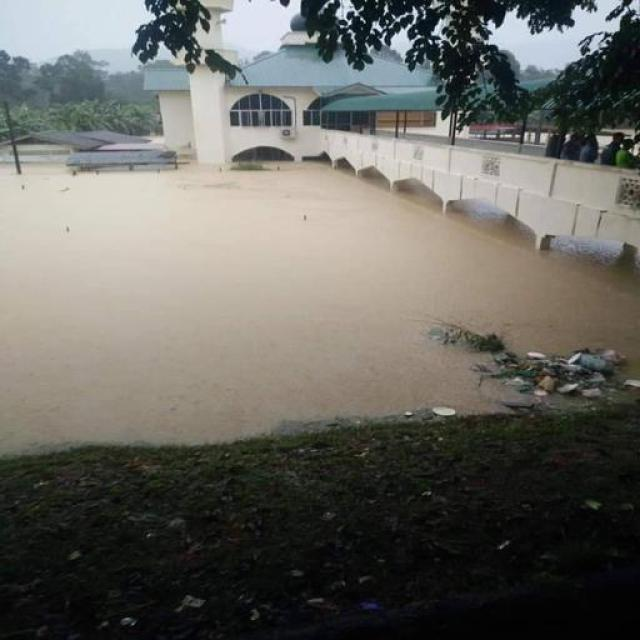puddle: (2, 181, 514, 431), (201, 260, 640, 365)
